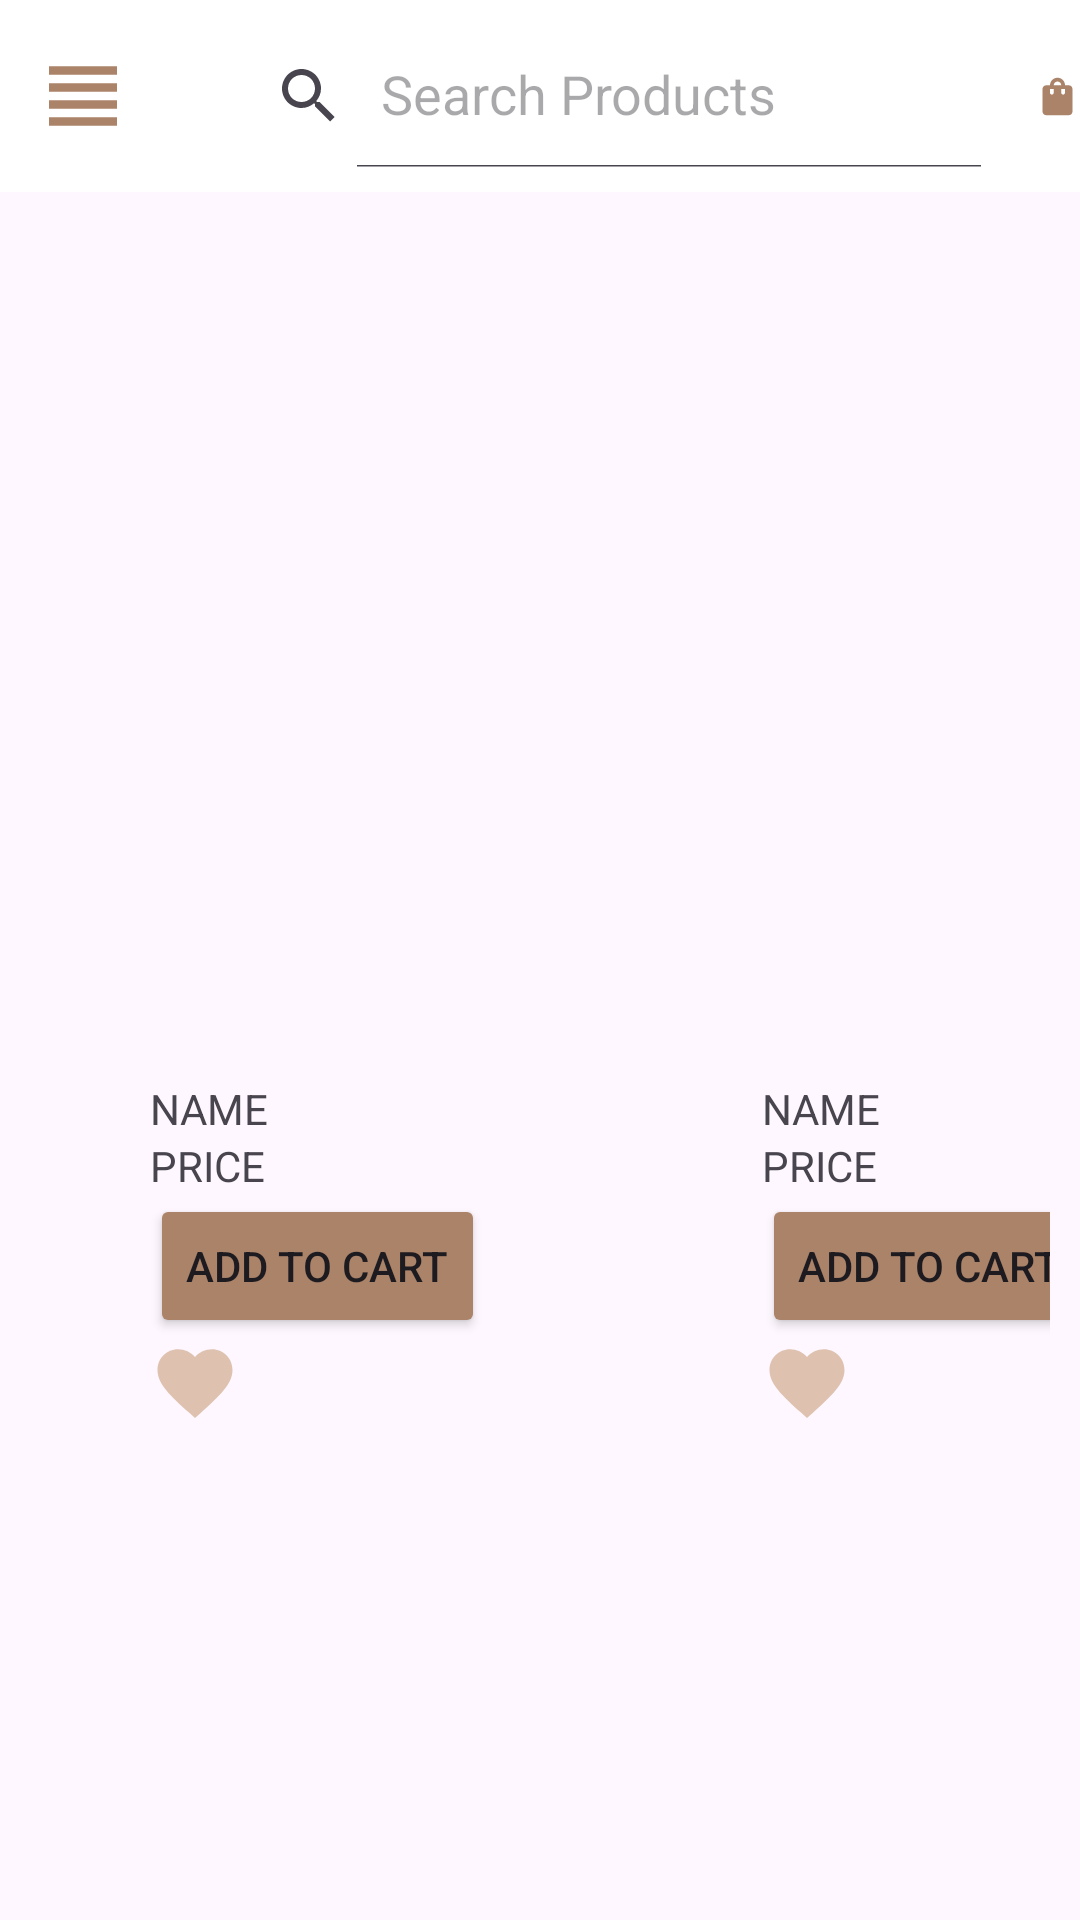

Icons on this 1080 x 1920 Android screen, each with the point to tap as point (x, y):
favorite: point (195, 1383), point (807, 1383)
Shopping Cart Icon: point (1057, 96)
sidebar: point (83, 96)
